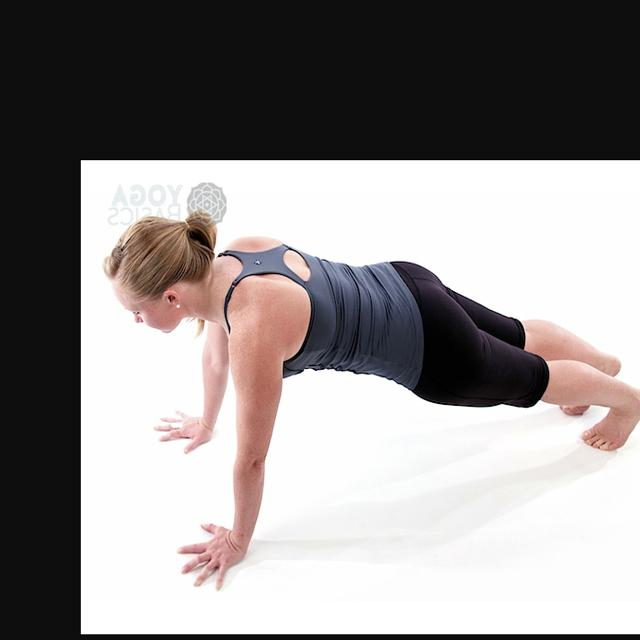Plank_Pose: (106, 199, 640, 590)
